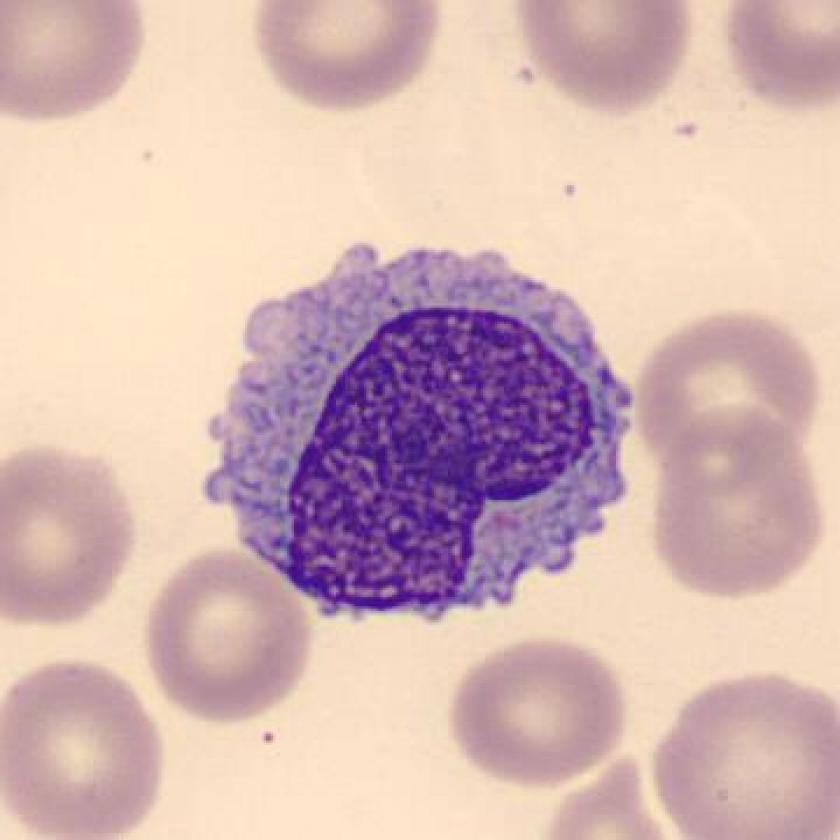monocyte: (192, 226, 652, 640)
